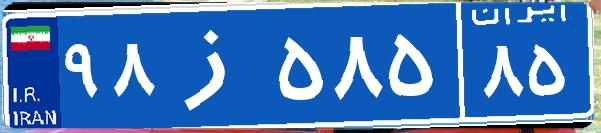5: (385, 28, 445, 110), (273, 28, 330, 110), (525, 38, 570, 115)
8: (330, 28, 385, 110), (475, 38, 525, 113), (110, 28, 158, 105)
9: (57, 26, 110, 107)
ز: (158, 15, 273, 115)
